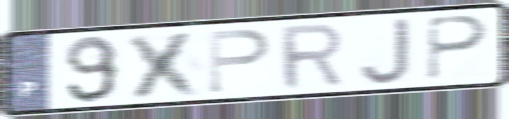9: (62, 33, 121, 105)
J: (356, 15, 414, 87)
P: (424, 14, 491, 84), (205, 27, 272, 96)
R: (277, 21, 347, 93)
X: (123, 28, 208, 101)
